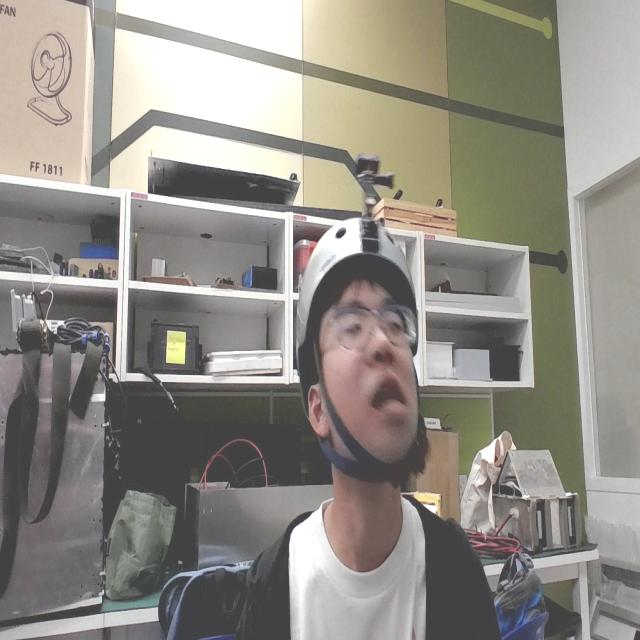With Helmet: (261, 120, 489, 546)
